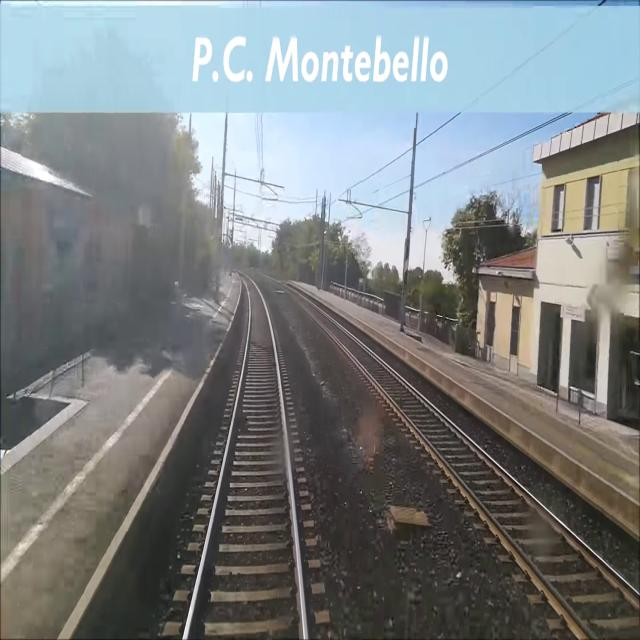rail-track: (275, 280, 640, 639), (187, 272, 303, 639)
